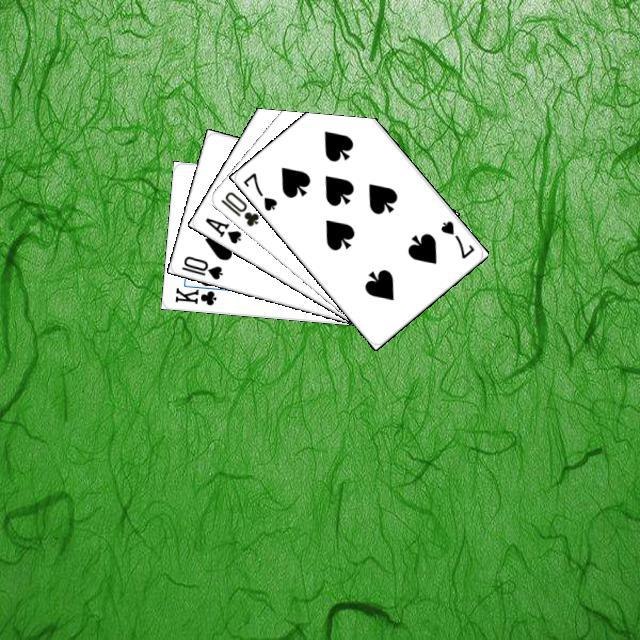10c: (216, 187, 261, 228)
10s: (177, 251, 224, 281)
7s: (238, 168, 279, 213), (435, 216, 476, 261)
As: (200, 212, 243, 245)
Kc: (170, 279, 223, 307)
